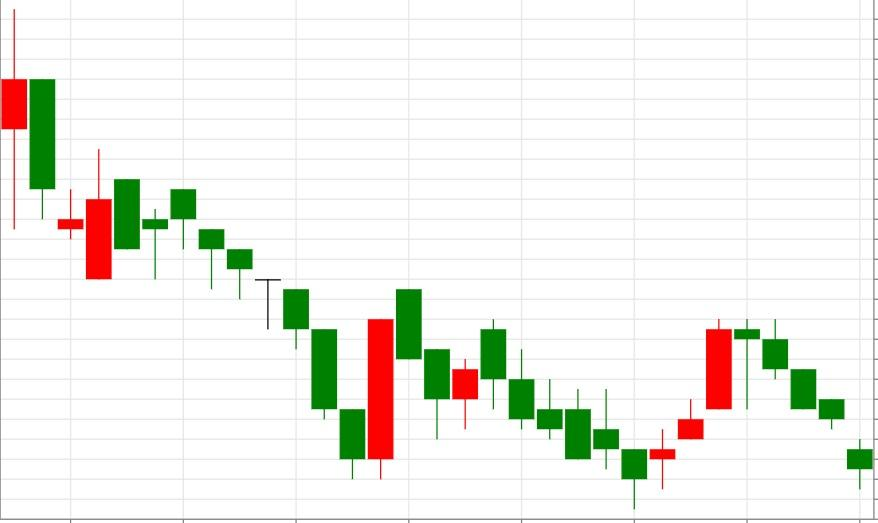bullish_engulfing_rise: (169, 187, 395, 480)
three_black_crows_fall: (619, 319, 817, 511)
